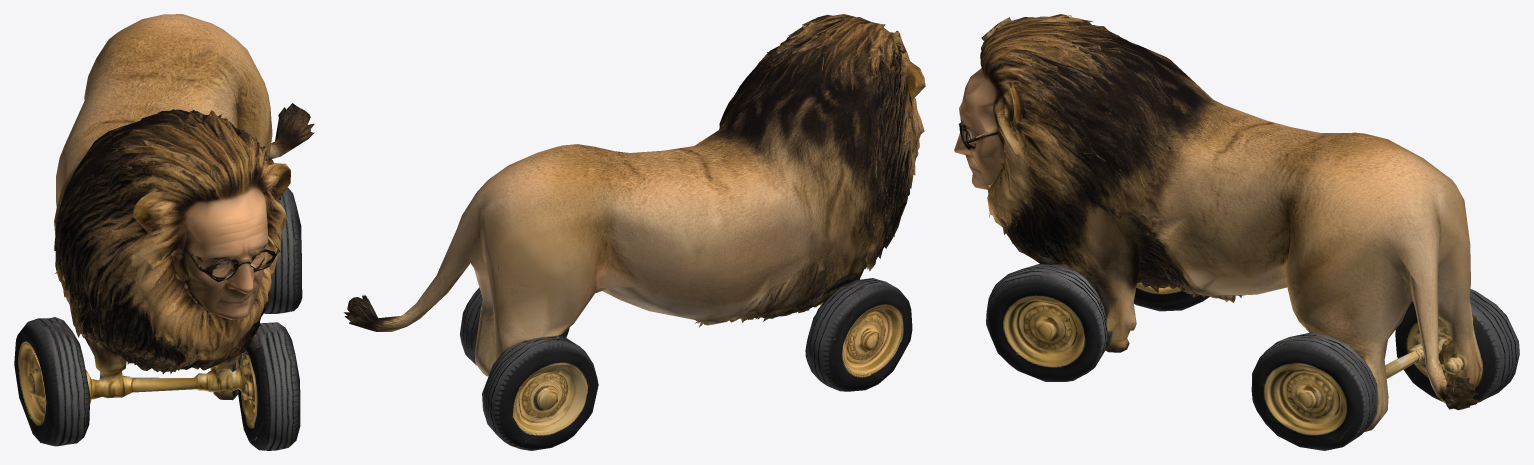
Rendered from Meshy_AI_The_Scholar_Lion_on_W_0518223023_texture.obj.
3 renders of one model, left to right at view 1: azimuth 30°, elevation 25°; view 2: azimuth 150°, elevation 25°; view 3: azimuth 270°, elevation 25°, orthographic. The views are drawn at different scales.
Visible parts, largest first — view 1: Meshy_AI_The_Scholar_Lion_on_W_0518223023_texture; view 2: Meshy_AI_The_Scholar_Lion_on_W_0518223023_texture; view 3: Meshy_AI_The_Scholar_Lion_on_W_0518223023_texture.
Boxes of the visible parts, <box> form: Meshy_AI_The_Scholar_Lion_on_W_0518223023_texture: <box>14,14,314,450</box>; Meshy_AI_The_Scholar_Lion_on_W_0518223023_texture: <box>344,14,925,450</box>; Meshy_AI_The_Scholar_Lion_on_W_0518223023_texture: <box>954,14,1519,450</box>.
Bounding box in the file's own units: 1.38 × 1 × 1.61.
Materials: 1 (1 with a texture image).
